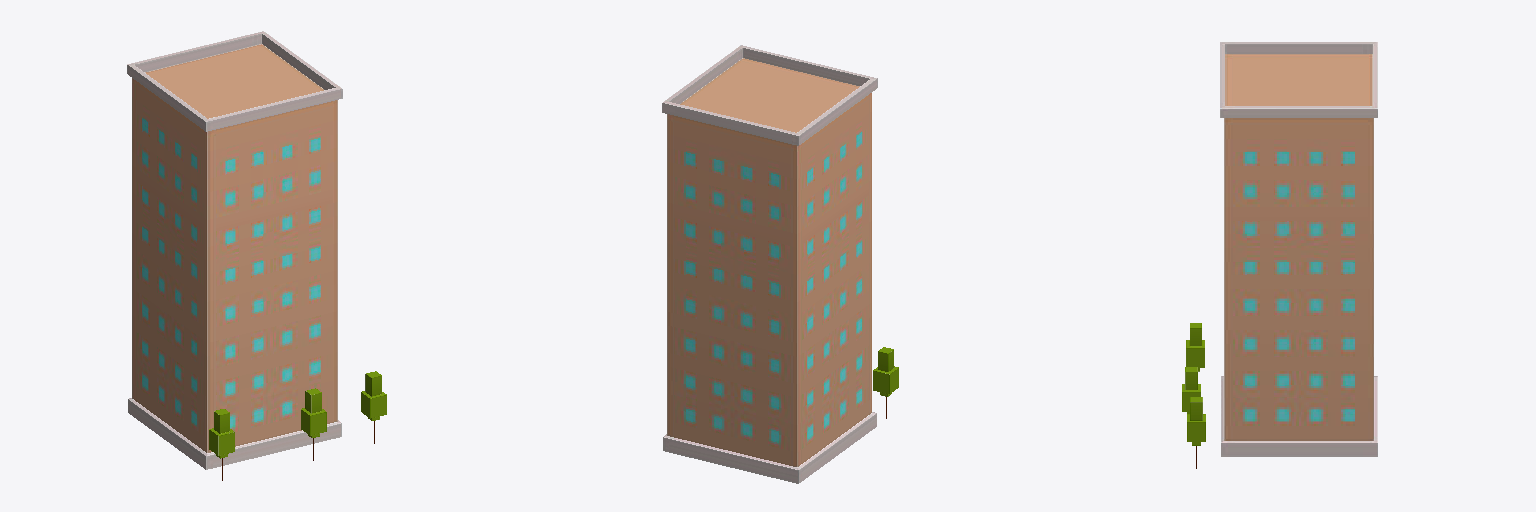
3 renders of one model, left to right at view 1: azimuth 30°, elevation 25°; view 2: azimuth 150°, elevation 25°; view 3: azimuth 270°, elevation 25°, orthographic.
Parts seen in each view (by area): view 1: living_yellow_3lvl_Mesh.9800, Tree_2_3_61.462_Mesh.132, Tree_2_3_61.463_Mesh.137, Tree_2_3_61.461_Mesh.131; view 2: living_yellow_3lvl_Mesh.9800, Tree_2_3_61.461_Mesh.131; view 3: living_yellow_3lvl_Mesh.9800, Tree_2_3_61.462_Mesh.132, Tree_2_3_61.461_Mesh.131, Tree_2_3_61.463_Mesh.137.
Part boxes in pixels (left/top/right/bottom): living_yellow_3lvl_Mesh.9800: left=127, top=31, right=342, bottom=469; Tree_2_3_61.462_Mesh.132: left=361, top=371, right=386, bottom=443; Tree_2_3_61.463_Mesh.137: left=301, top=388, right=326, bottom=460; Tree_2_3_61.461_Mesh.131: left=209, top=409, right=234, bottom=480; living_yellow_3lvl_Mesh.9800: left=662, top=45, right=877, bottom=483; Tree_2_3_61.461_Mesh.131: left=873, top=347, right=898, bottom=418; living_yellow_3lvl_Mesh.9800: left=1220, top=42, right=1377, bottom=456; Tree_2_3_61.462_Mesh.132: left=1187, top=397, right=1205, bottom=468; Tree_2_3_61.461_Mesh.131: left=1186, top=323, right=1204, bottom=371; Tree_2_3_61.463_Mesh.137: left=1182, top=367, right=1200, bottom=413.
Bounding box in the file's own units: 1.6 × 3.19 × 1.61.
2 materials, 2 textured.